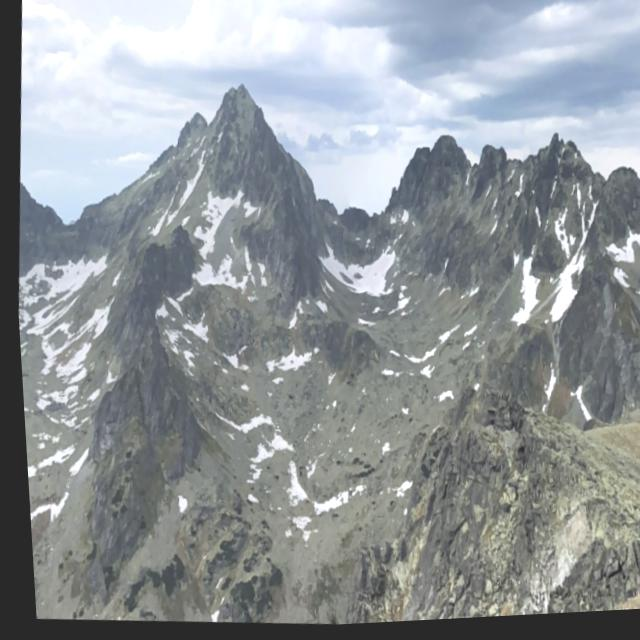Ganek: (371, 69, 531, 211)
Vysoka: (126, 0, 335, 179)
